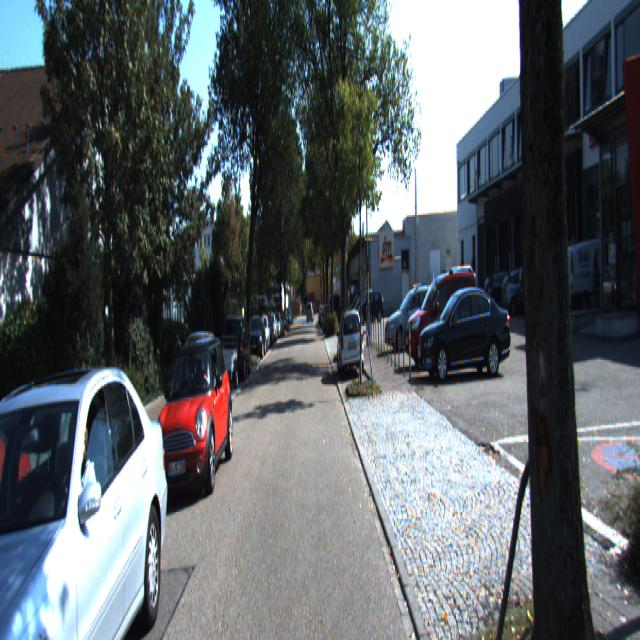Car: (0, 363, 175, 638), (151, 332, 234, 504), (0, 376, 36, 638), (415, 283, 513, 379), (405, 263, 485, 370), (174, 328, 222, 426), (384, 281, 445, 353), (337, 306, 366, 382), (222, 313, 251, 383), (246, 315, 266, 362)
DontCare: (496, 258, 552, 320), (359, 284, 383, 318), (267, 306, 294, 336), (318, 300, 334, 334), (306, 300, 312, 318)
Misc: (212, 341, 238, 386)
Van: (554, 232, 636, 322)
